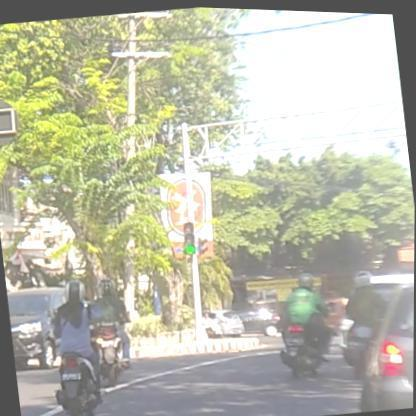green: (180, 220, 198, 254)
